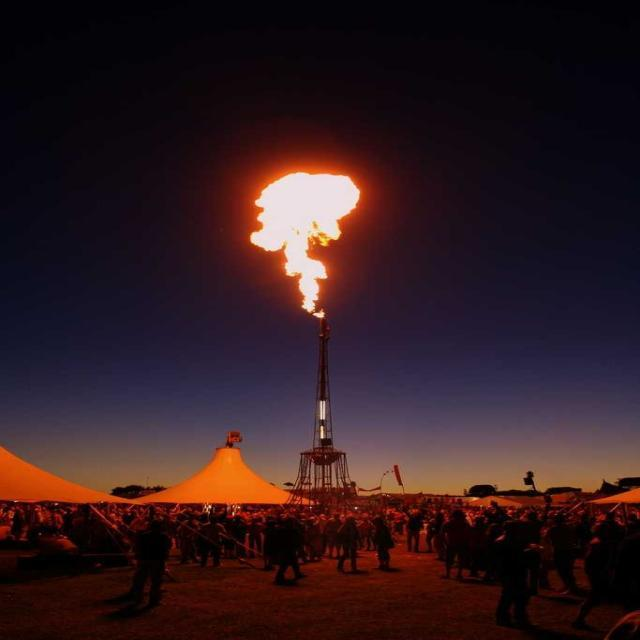Fire: (264, 182, 352, 225)
